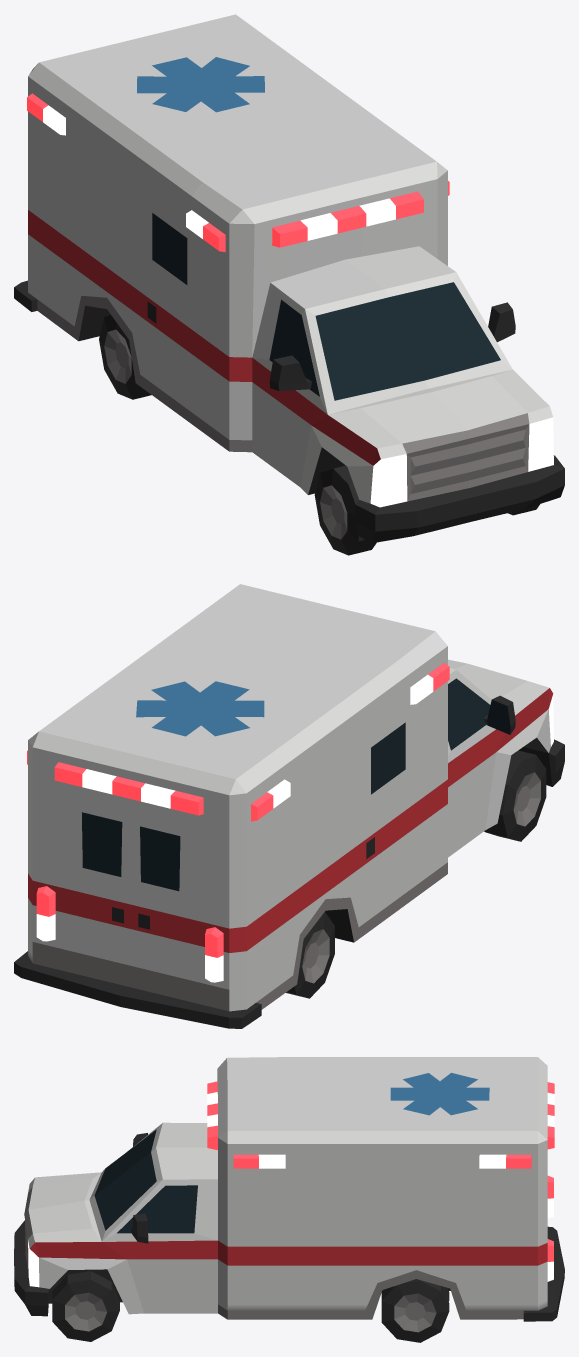
The model's file is car-ambulance-pickup.glb.
3 renders of one model, top to bottom at view 1: azimuth 30°, elevation 25°; view 2: azimuth 150°, elevation 25°; view 3: azimuth 270°, elevation 25°, orthographic. The views are drawn at different scales.
Visible parts, largest first — view 1: car-ambulance-pickup-base, car-ambulance-pickup-wheel_FR, car-ambulance-pickup-wheel_BR; view 2: car-ambulance-pickup-base, car-ambulance-pickup-wheel_FR, car-ambulance-pickup-wheel_BR; view 3: car-ambulance-pickup-base, car-ambulance-pickup-wheel_FL, car-ambulance-pickup-wheel_BL.
Part boxes in pixels (left/top/right/bottom): car-ambulance-pickup-base: left=14, top=14, right=564, bottom=543; car-ambulance-pickup-wheel_FR: left=314, top=465, right=376, bottom=555; car-ambulance-pickup-wheel_BR: left=99, top=315, right=151, bottom=399; car-ambulance-pickup-base: left=14, top=584, right=564, bottom=1028; car-ambulance-pickup-wheel_FR: left=484, top=750, right=546, bottom=841; car-ambulance-pickup-wheel_BR: left=286, top=912, right=334, bottom=998; car-ambulance-pickup-base: left=14, top=1057, right=564, bottom=1321; car-ambulance-pickup-wheel_FL: left=52, top=1271, right=119, bottom=1341; car-ambulance-pickup-wheel_BL: left=381, top=1279, right=449, bottom=1342.
Size of the model in its own units: 2.43 by 2.66 by 6.24.
1 material, 1 textured.
